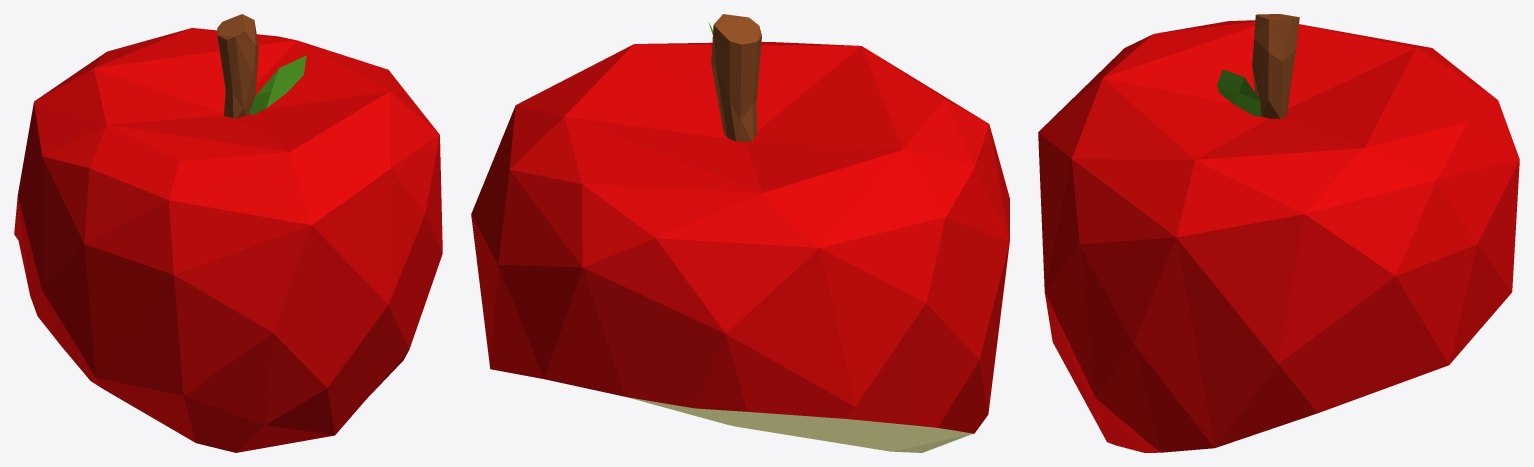
The model's file is Apple_1.fbx.
3 views of the same model, side by side, from view 1: azimuth 30°, elevation 25°; view 2: azimuth 150°, elevation 25°; view 3: azimuth 270°, elevation 25° (orthographic). The views are drawn at different scales.
Visible parts, largest first — view 1: Cylinder.008; view 2: Cylinder.008; view 3: Cylinder.008.
Part boxes in pixels (<box>): Cylinder.008: <box>14,14,442,452</box>; Cylinder.008: <box>471,14,1009,452</box>; Cylinder.008: <box>1038,14,1519,452</box>.
Size of the model in its own units: 156 by 152 by 159.
